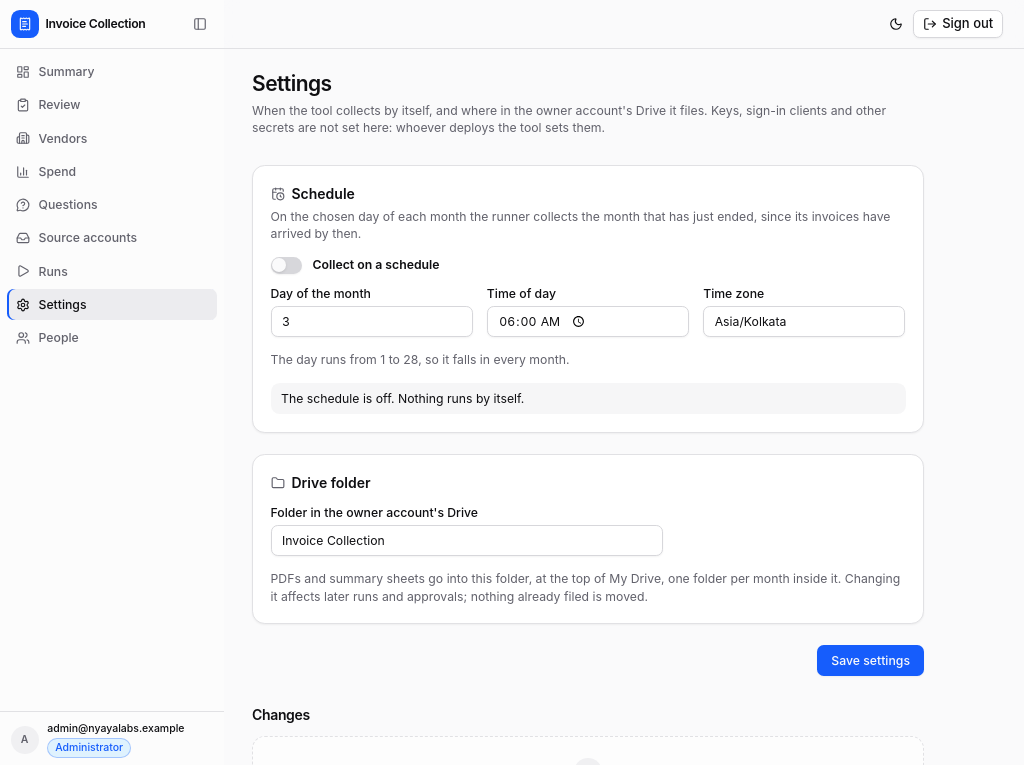
Test case: turning the schedule on saves it and shows the next run and the month it collects
Click the switch named "Collect on a schedule".
click(286, 265)  # box [270, 256, 302, 274]
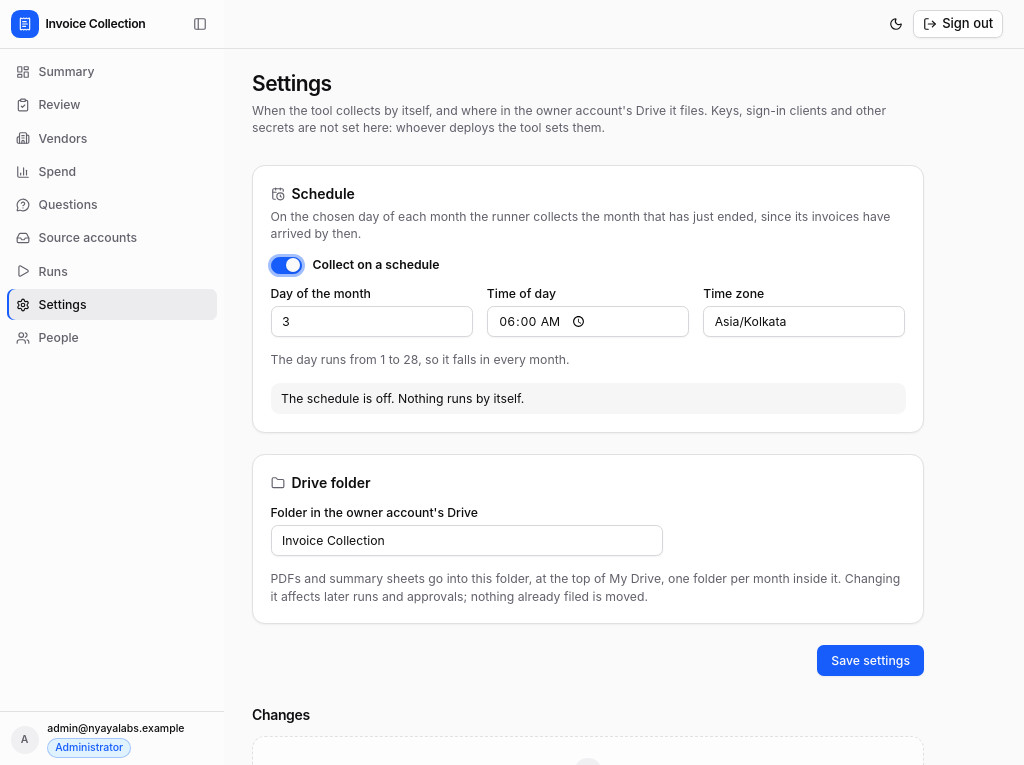
Replace the text in the number field labelled "Day of the month" with "5" at {"x": 372, "y": 321}, box [270, 306, 473, 337]
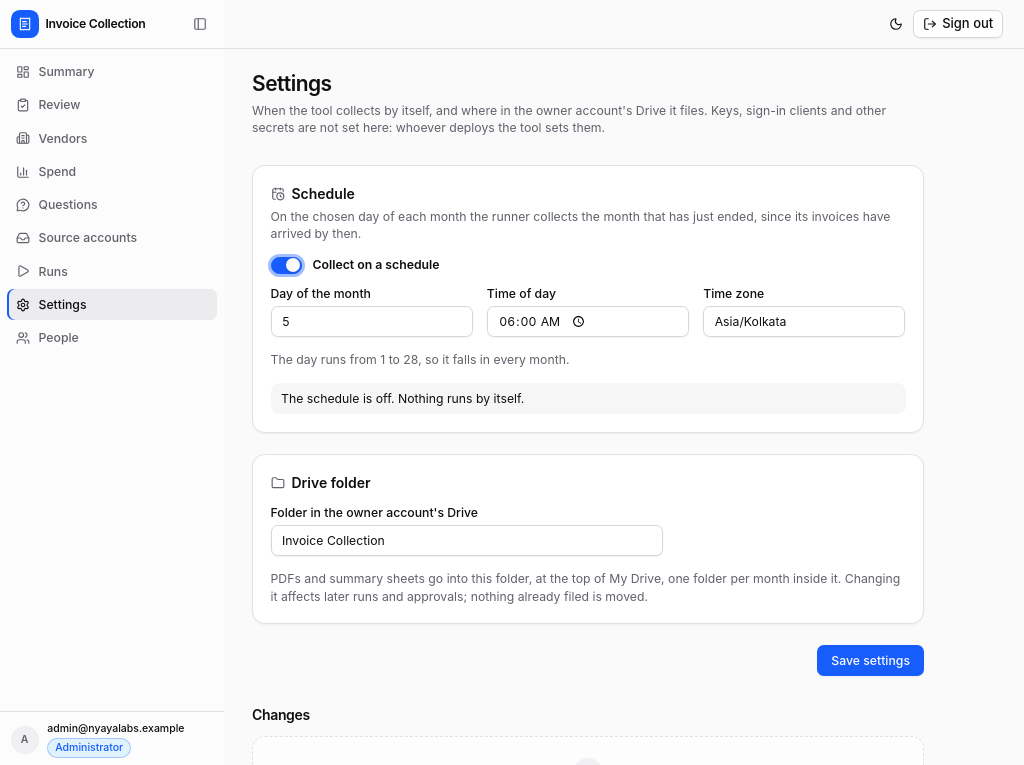
Click the button "Save settings".
click(871, 660)  # box [817, 644, 924, 676]
(page scrolled)
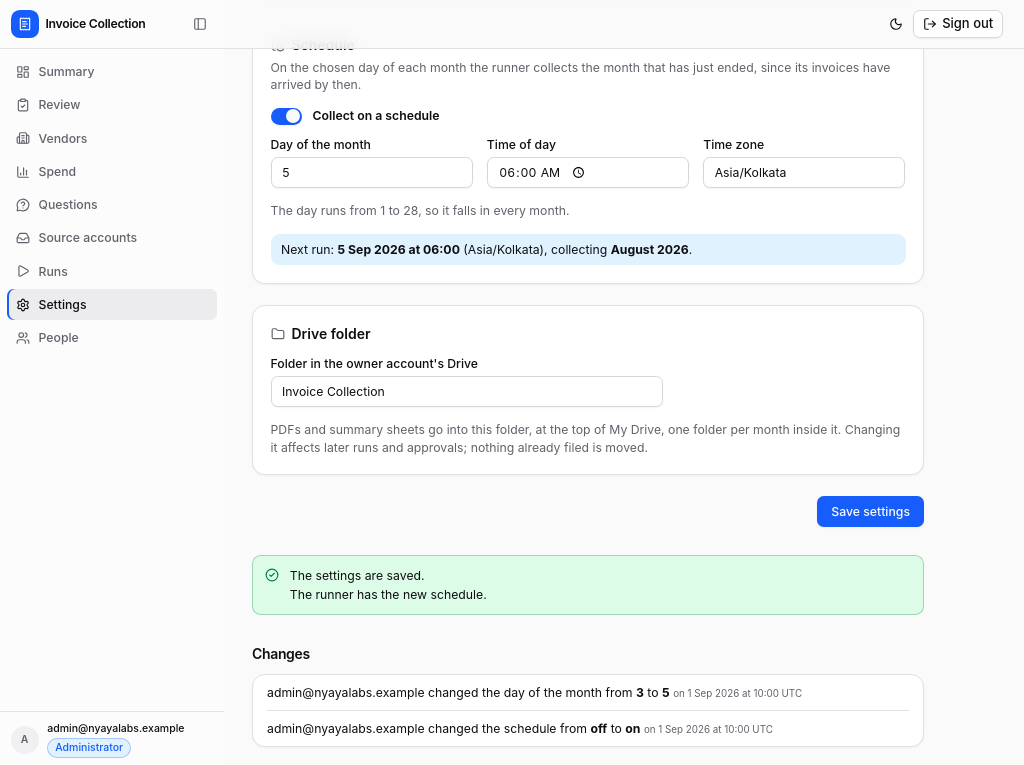
Check: the text "The settings are saved." is shown, box [290, 568, 425, 582]
Check: the text "The runner has the new schedule." is shown, box [290, 587, 487, 602]
Check: the element named "Next scheduled run" reads "Next run: 5 Sep 2026 at 06:00 (Asia/Kolkata), collecting August 2026.", box [270, 234, 906, 265]
